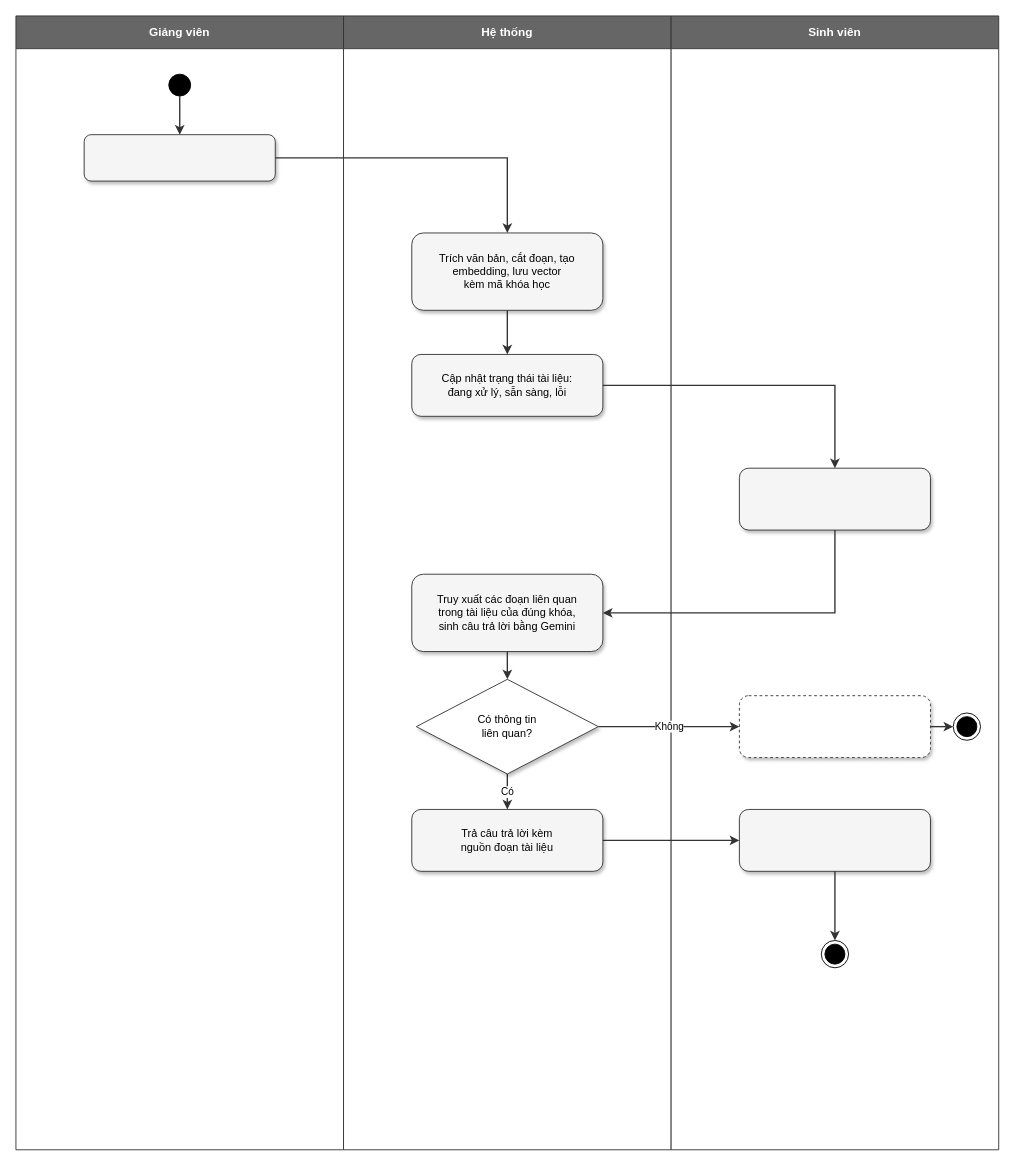
The diagram is 1015 pixels wide and 1166 high, and some of its shapes have lost their labels. Each missing label, with the centre of its shape:
"Gửi câu hỏi trong một khóa học" belongs at pixel 835 500.
"Sinh viên nhận câu trả lời" belongs at pixel 835 841.
"Thông báo không tìm thấy thông tin" belongs at pixel 835 727.
"Tải PDF lên thành công" belongs at pixel 180 158.
